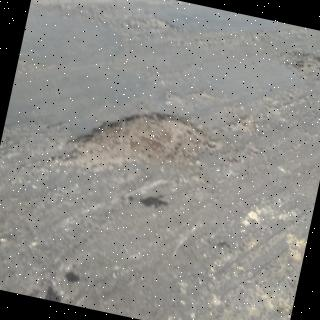pothole: (58, 116, 217, 165), (278, 51, 320, 80)
